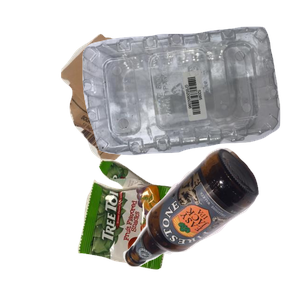cardboard: (58, 31, 222, 188)
glass: (120, 145, 300, 300)
plastic: (80, 24, 300, 172)
trash: (75, 156, 244, 300)
